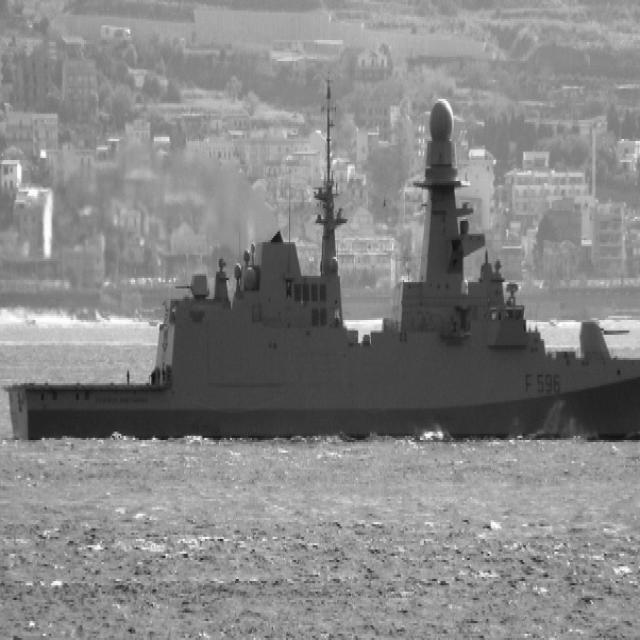Fragata: (4, 66, 640, 452)
